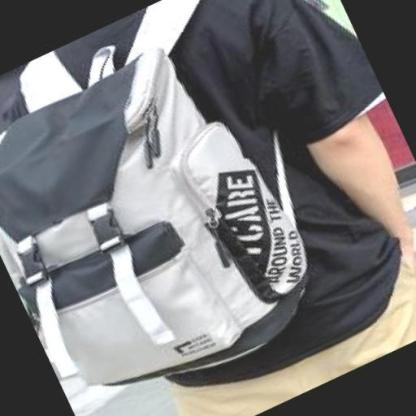bag: (6, 35, 315, 387)
